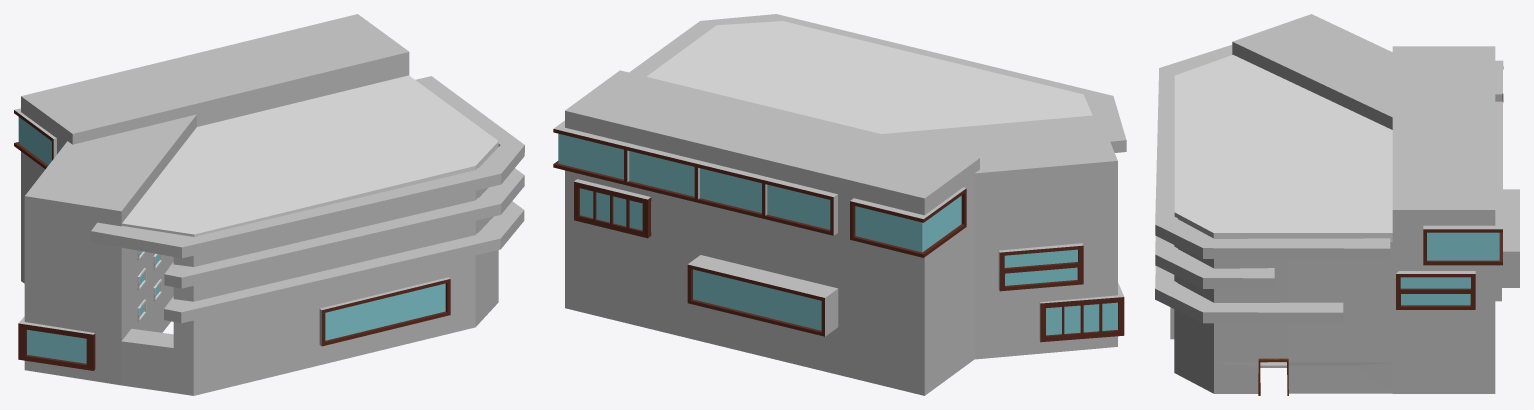
File: GlassBuilding.fbx
3 renders of one model, left to right at view 1: azimuth 30°, elevation 25°; view 2: azimuth 150°, elevation 25°; view 3: azimuth 270°, elevation 25°, orthographic. The views are drawn at different scales.
Parts seen in each view (by area): view 1: Cylinder.002, Cylinder.004, Cylinder.006, Cylinder.005, Cube.044, Cube.059, Cube.060, Cube.055, Cube.043; view 2: Cylinder.002, Cylinder.004, Cube.055, Cylinder.005, Cube.057, Cube.058, Cube.048, Cube.044, Cube.056, Cube.049, Cube.054, Cube.051 (+1 smaller); view 3: Cylinder.002, Cylinder.004, Cylinder.006, Cylinder.005, Cube.049, Cube.045, Cube.058, Cube.057, Cube.055.
Part boxes in pixels (bbox=[...]): Cylinder.002: bbox=[21, 14, 409, 385]; Cylinder.004: bbox=[122, 75, 498, 236]; Cylinder.006: bbox=[121, 187, 498, 395]; Cylinder.005: bbox=[91, 76, 524, 323]; Cube.044: bbox=[18, 316, 95, 370]; Cube.059: bbox=[379, 277, 450, 331]; Cube.060: bbox=[319, 294, 390, 346]; Cube.055: bbox=[14, 108, 56, 169]; Cube.043: bbox=[137, 250, 170, 321]; Cylinder.002: bbox=[565, 70, 1117, 395]; Cylinder.004: bbox=[646, 21, 1092, 133]; Cube.055: bbox=[850, 187, 966, 257]; Cylinder.005: bbox=[629, 14, 1126, 152]; Cube.057: bbox=[751, 270, 838, 336]; Cube.058: bbox=[687, 255, 771, 320]; Cube.048: bbox=[998, 243, 1083, 291]; Cube.044: bbox=[1039, 283, 1124, 342]; Cube.056: bbox=[574, 179, 651, 238]; Cube.049: bbox=[553, 120, 630, 185]; Cube.054: bbox=[759, 176, 837, 235]; Cube.051: bbox=[624, 143, 701, 202]; Cylinder.002: bbox=[1232, 14, 1495, 393]; Cylinder.004: bbox=[1174, 55, 1392, 241]; Cylinder.006: bbox=[1174, 241, 1392, 393]; Cylinder.005: bbox=[1155, 45, 1390, 323]; Cube.049: bbox=[1423, 195, 1502, 265]; Cube.045: bbox=[1396, 271, 1475, 309]; Cube.058: bbox=[1502, 218, 1519, 287]; Cube.057: bbox=[1503, 189, 1519, 217]; Cube.055: bbox=[1495, 60, 1503, 102].
Bounding box in the file's own units: 523 × 204 × 366.
